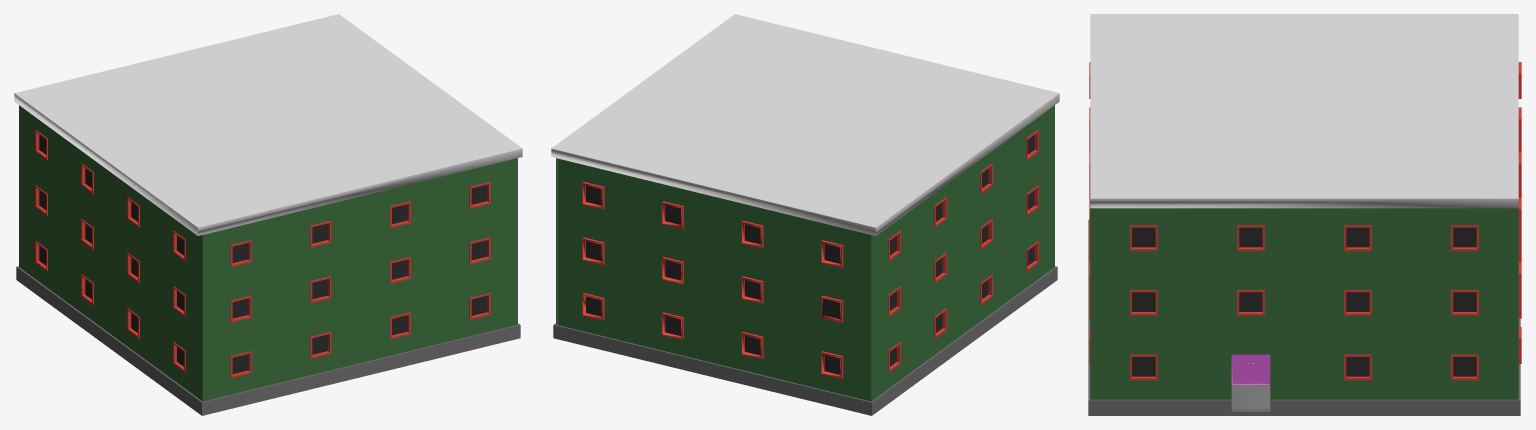
3 renders of one model, left to right at view 1: azimuth 30°, elevation 25°; view 2: azimuth 150°, elevation 25°; view 3: azimuth 270°, elevation 25°, orthographic. The views are drawn at different scales.
Visible parts, largest first — view 1: BD20_F03_01; view 2: BD20_F03_01; view 3: BD20_F03_01.
Part boxes in pixels (x1,y1,x2,y2): BD20_F03_01: (14, 14, 522, 415); BD20_F03_01: (551, 14, 1059, 415); BD20_F03_01: (1088, 14, 1521, 415).
Size of the model in its own units: 2040 by 1130 by 2025.
